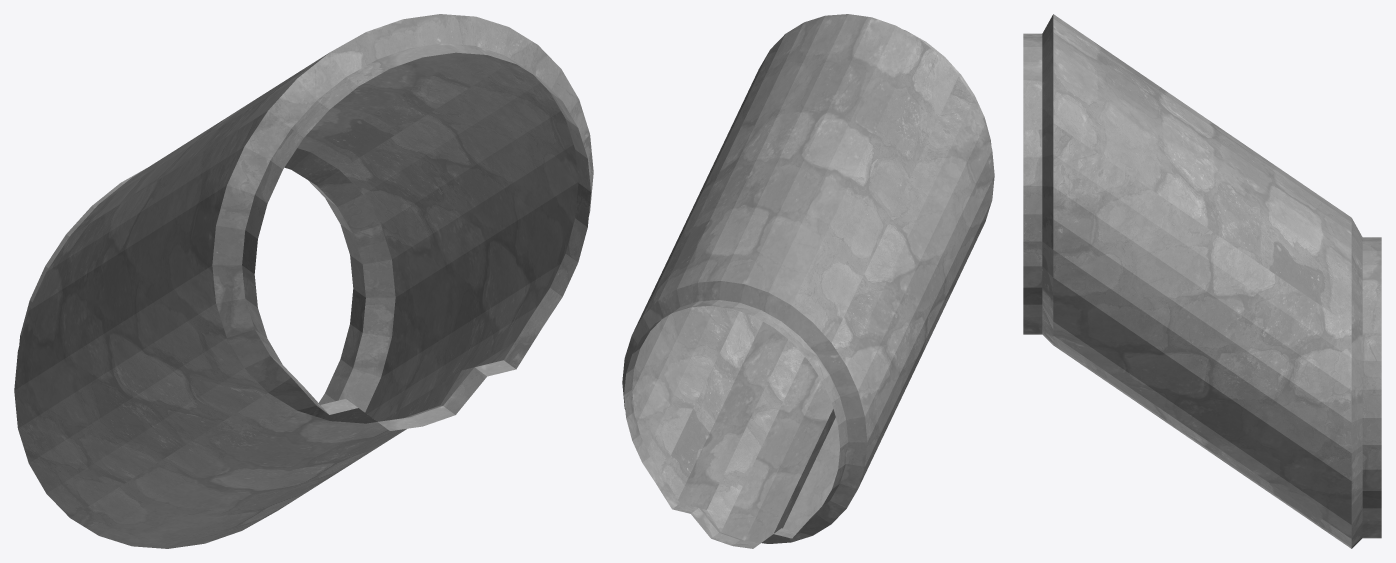
Rendered from PipeSlopeShort.fbx.
3 renders of one model, left to right at view 1: azimuth 30°, elevation 25°; view 2: azimuth 150°, elevation 25°; view 3: azimuth 270°, elevation 25°, orthographic. The views are drawn at different scales.
Parts seen in each view (by area): view 1: Cylinder; view 2: Cylinder; view 3: Cylinder.
Boxes of the visible parts, x1=… form: Cylinder: x1=14, y1=14, x2=593, y2=548; Cylinder: x1=622, y1=14, x2=994, y2=548; Cylinder: x1=1023, y1=14, x2=1381, y2=548.
Bounding box in the file's own units: 244 × 409 × 263.
